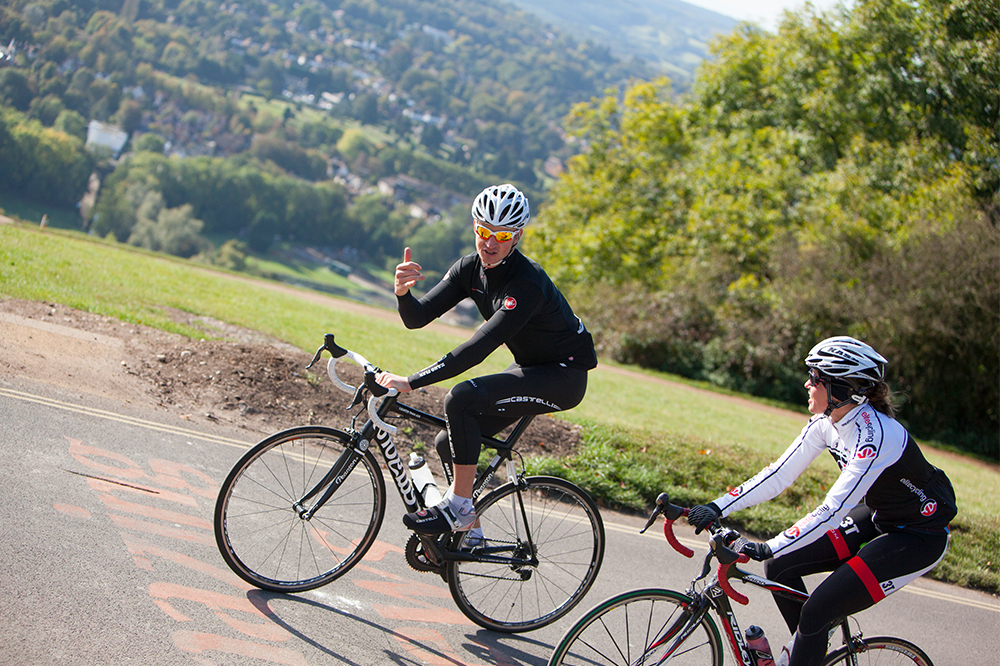helmet: (803, 332, 888, 383), (470, 183, 536, 234)
